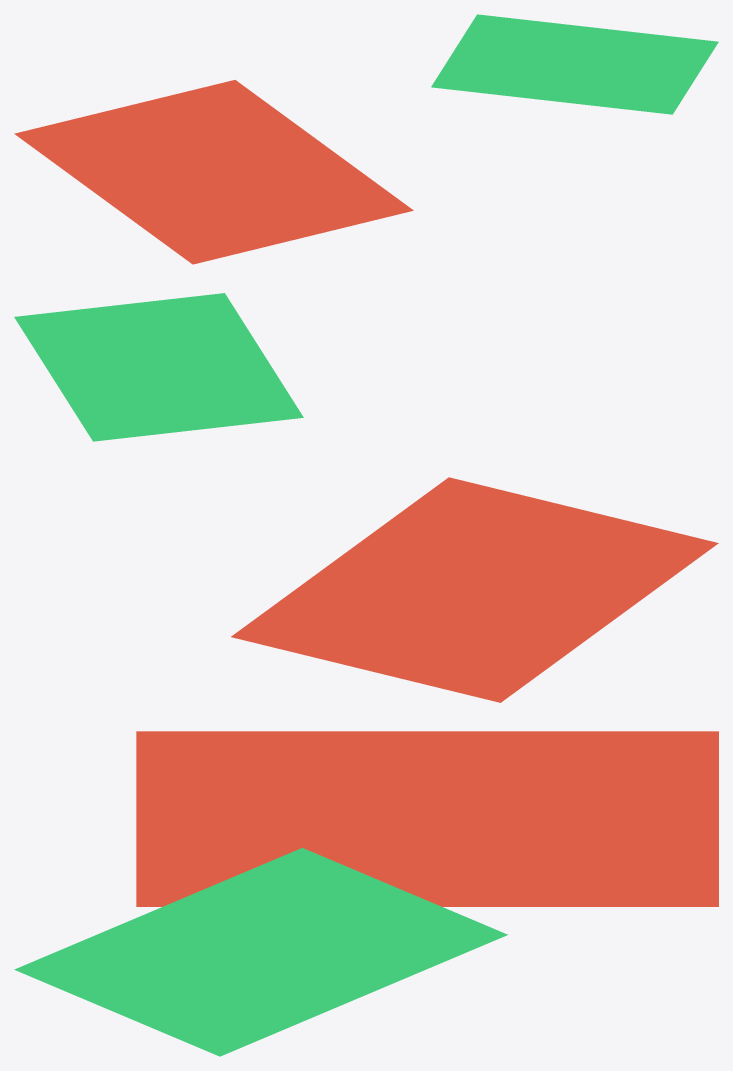
3 views of the same model, one above another, from view 1: azimuth 30°, elevation 25°; view 2: azimuth 150°, elevation 25°; view 3: azimuth 270°, elevation 25° (orthographic). The views are drawn at different scales.
Parts seen in each view (by area): view 1: left_static, right_reflected_raised; view 2: left_static, right_reflected_raised; view 3: left_static, right_reflected_raised.
Part boxes in pixels (left/top/right/bottom): left_static: left=14, top=80, right=413, bottom=264; right_reflected_raised: left=431, top=14, right=718, bottom=114; left_static: left=231, top=477, right=718, bottom=702; right_reflected_raised: left=14, top=293, right=303, bottom=441; left_static: left=136, top=731, right=718, bottom=906; right_reflected_raised: left=14, top=848, right=507, bottom=1056.
Size of the model in its own units: 1.25 by 0.15 by 0.847.
